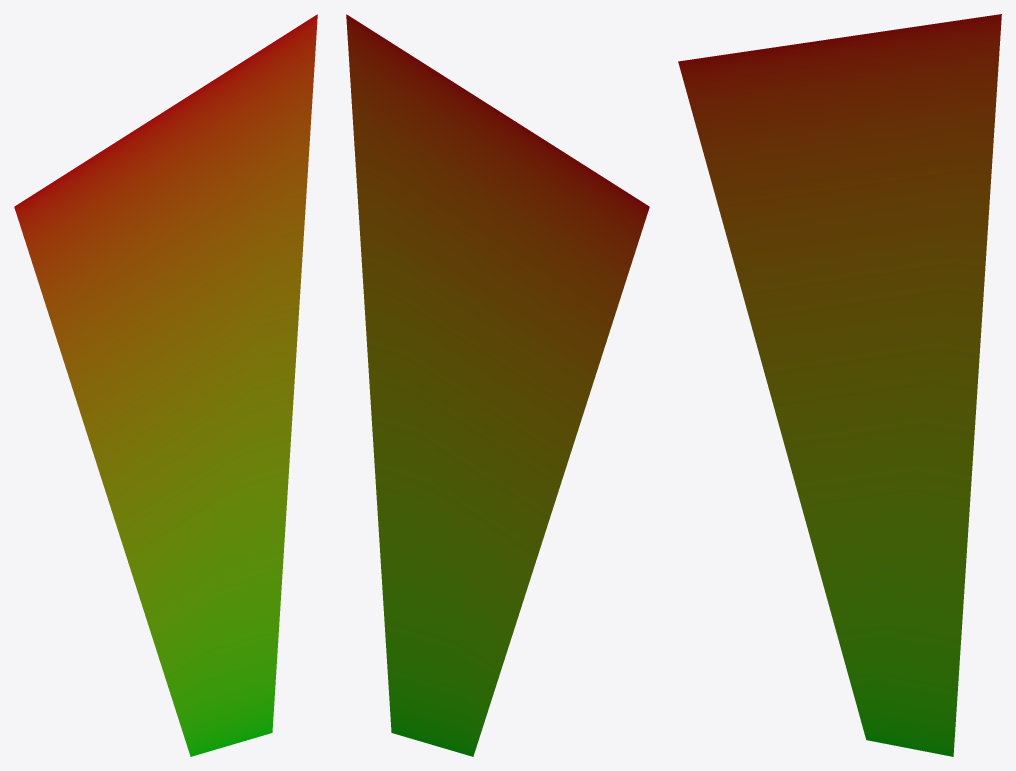
Rendered from Tundra Grass_LOD7_Var9_wk2oaeyqx.fbx.
The picture shows the model from 3 angles, left to right: view 1: azimuth 30°, elevation 25°; view 2: azimuth 150°, elevation 25°; view 3: azimuth 330°, elevation 25°; orthographic projection. The views are drawn at different scales.
Parts seen in each view (by area): view 1: _ski5_Var9_LOD7; view 2: _ski5_Var9_LOD7; view 3: _ski5_Var9_LOD7.
Boxes of the visible parts, x1,y1,x2,y2 form: _ski5_Var9_LOD7: (14, 14, 317, 756); _ski5_Var9_LOD7: (346, 14, 649, 756); _ski5_Var9_LOD7: (678, 14, 1001, 756).
Bounding box in the file's own units: 32.67 × 73.19 × 3.2e-06.
